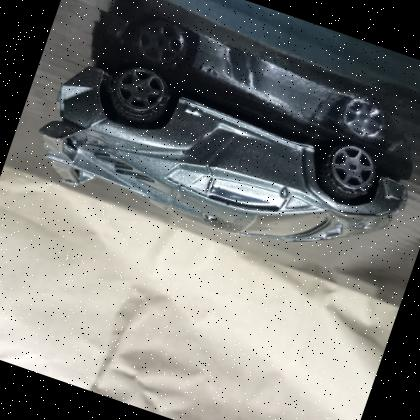Car: (40, 62, 407, 242)
